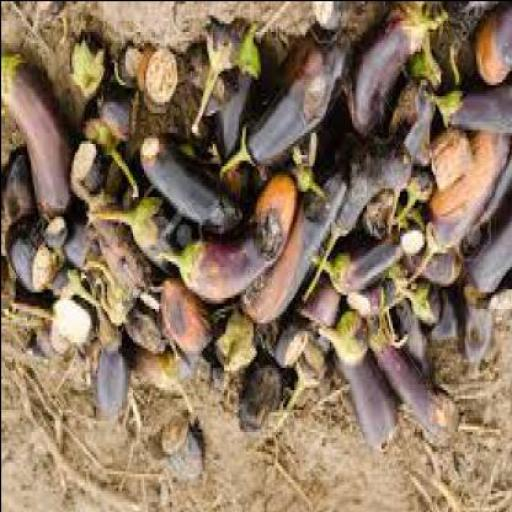biodegradable: (216, 28, 350, 176), (299, 140, 414, 304), (158, 176, 300, 308), (408, 126, 510, 286), (241, 173, 347, 325), (347, 2, 449, 140), (368, 313, 462, 445), (2, 53, 74, 221), (141, 134, 245, 240), (276, 277, 343, 439), (83, 192, 162, 310), (95, 193, 198, 280), (384, 76, 434, 240), (217, 25, 262, 204), (464, 134, 511, 298), (330, 352, 397, 454), (196, 25, 247, 140), (80, 109, 139, 207), (239, 358, 295, 440), (314, 243, 402, 294), (160, 275, 214, 358), (6, 224, 64, 297), (433, 86, 511, 139), (126, 350, 192, 411), (182, 50, 241, 117), (91, 316, 128, 422), (400, 232, 464, 289), (397, 302, 436, 386), (62, 216, 110, 282), (475, 2, 511, 90), (458, 282, 493, 370), (214, 308, 256, 378), (46, 269, 108, 316), (2, 148, 35, 232), (87, 260, 128, 327), (163, 417, 204, 481), (323, 310, 371, 364), (430, 132, 472, 193), (68, 36, 108, 100), (65, 210, 102, 277), (422, 282, 460, 347), (293, 280, 341, 330), (124, 308, 171, 358), (52, 302, 97, 353), (98, 86, 140, 140), (9, 283, 60, 327), (189, 356, 232, 408), (142, 48, 176, 112), (401, 277, 441, 330), (277, 318, 311, 372), (397, 176, 434, 224), (76, 151, 106, 201), (117, 45, 146, 92), (360, 204, 394, 244), (480, 277, 511, 320), (38, 324, 72, 362), (41, 216, 69, 252), (259, 322, 278, 364), (22, 334, 48, 360), (2, 260, 16, 302)
